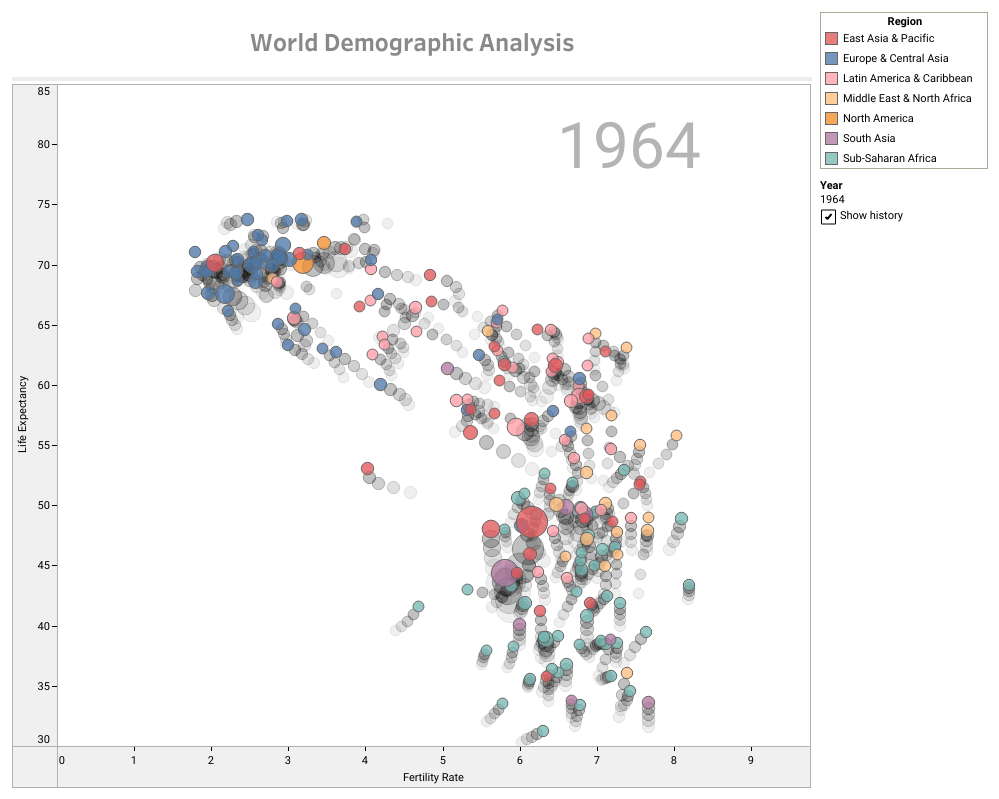

What the dashboard file says about the page in this screenshot:
{"tool":"tableau","page":{"name":"World Demographics","canvas":[1000,800],"ordinal":0},"visuals":[{"type":"text","box":[8,8,808,65]},{"type":"legend","title":"Sheet 1","param":"[federated.0tnq5xd1hv17h61g5z1cq10eshuw].[none:Region:nk]","box":[816,8,176,164]},{"type":"worksheet","title":"Sheet 1","mark":"Circle","rows":["Pivot Field Values"],"cols":["Pivot Field Values"],"box":[8,73,808,719]},{"type":"currpage","title":"Sheet 1","box":[816,172,176,106]}]}

Visuals, with their boxes in screenshot pixels (x1, y1, x2, y2), scaled from the page's 1000x800 canvas onto the 999x799 screenshot:
text: locate(8, 8, 815, 73)
"Sheet 1" legend: locate(815, 8, 991, 172)
"Sheet 1" worksheet (Circle marks): locate(8, 73, 815, 791)
"Sheet 1" currpage: locate(815, 172, 991, 278)
